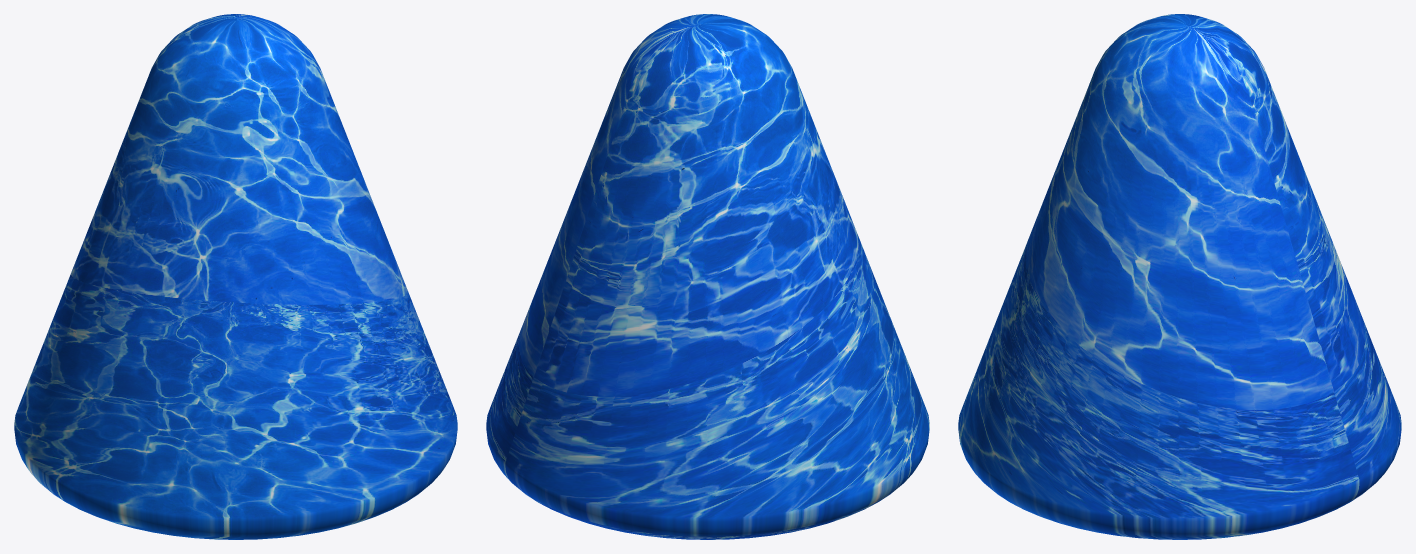
The model's file is blue.fbx.
3 renders of one model, left to right at view 1: azimuth 30°, elevation 25°; view 2: azimuth 150°, elevation 25°; view 3: azimuth 270°, elevation 25°, orthographic.
Visible parts, largest first — view 1: Cylinder; view 2: Cylinder; view 3: Cylinder.
Part boxes in pixels (<box>): Cylinder: <box>14,14,457,539</box>; Cylinder: <box>486,14,929,539</box>; Cylinder: <box>958,14,1401,539</box>.
Size of the model in its own units: 331 by 357 by 331.
